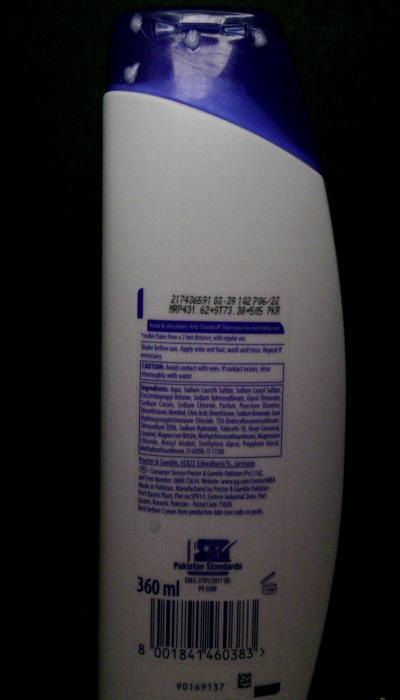pob_marg: (120, 11, 162, 44), (118, 58, 154, 96), (176, 25, 217, 58), (138, 510, 175, 546), (244, 24, 272, 59)
